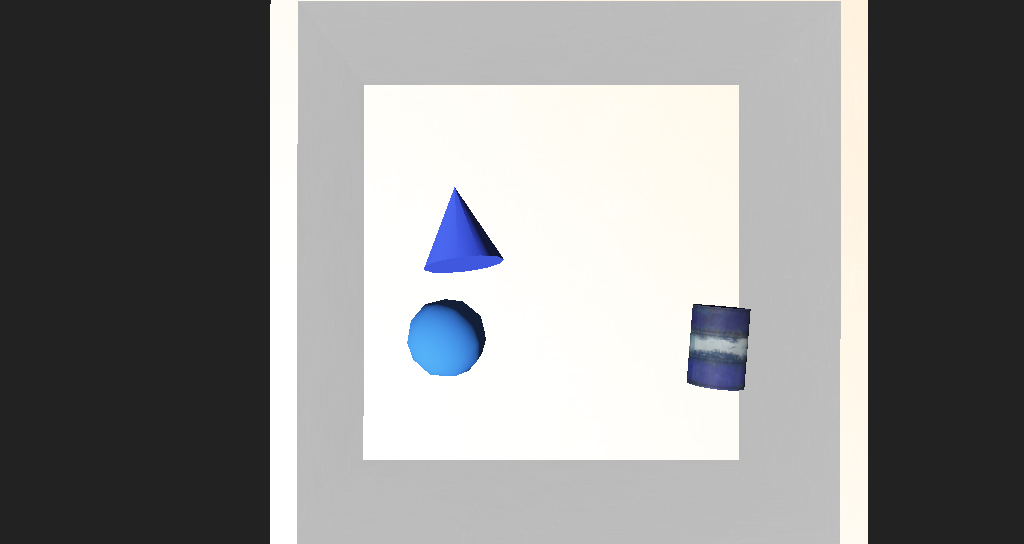cone: (610, 286, 670, 334)
cylinder: (394, 210, 468, 267)
sphere: (394, 284, 455, 327)
